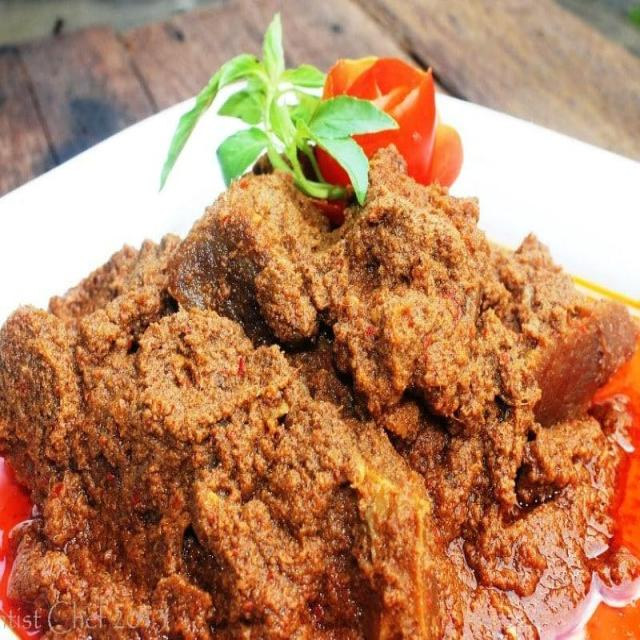Rendang: (4, 145, 640, 640)
